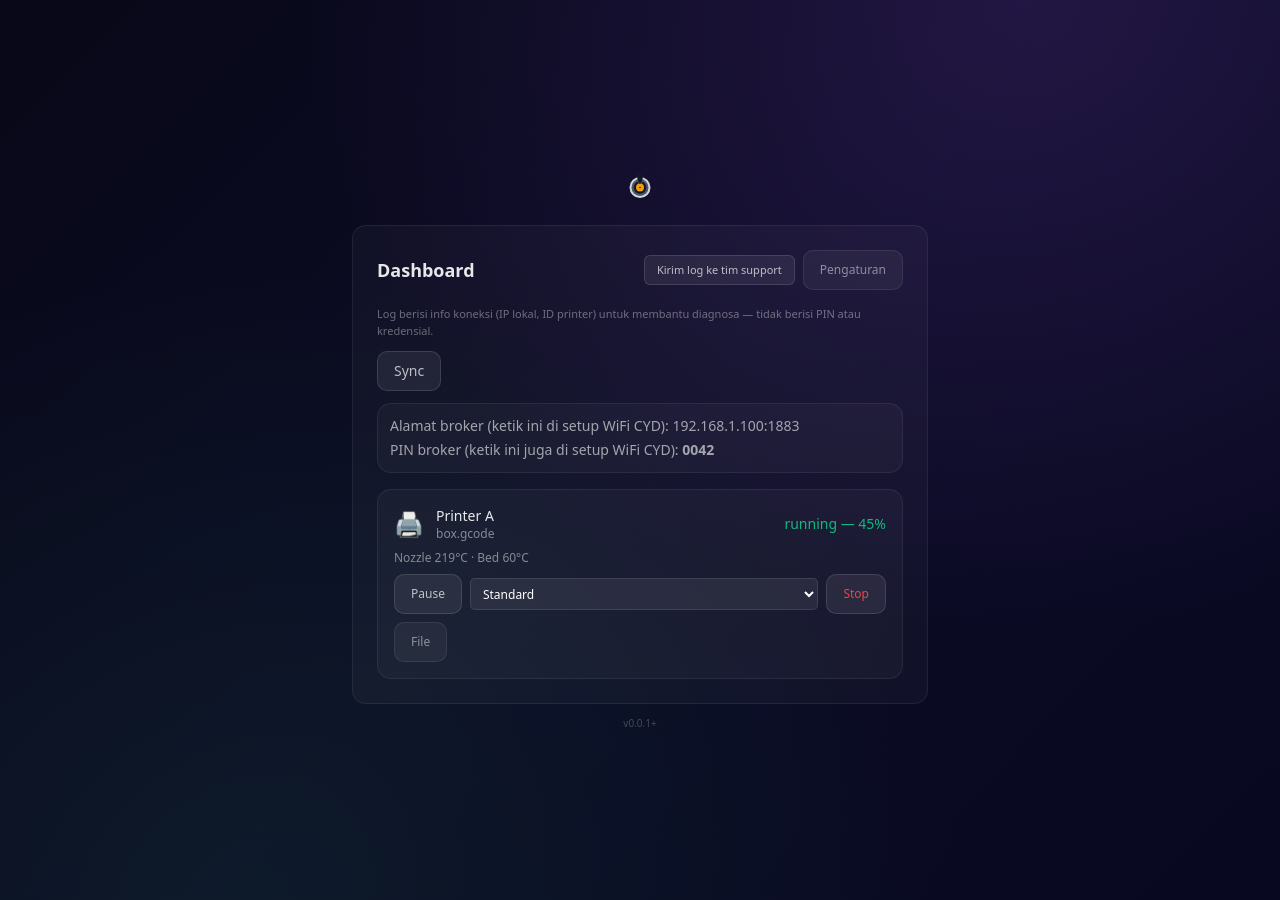
Test: DashboardScreen kirim log › sendLogs gagal reason lain (mis. upload_failed) -> pesan generik 'Gagal mengirim log'
Click the button "Kirim log ke tim support" at (719, 270), box [644, 255, 795, 285]
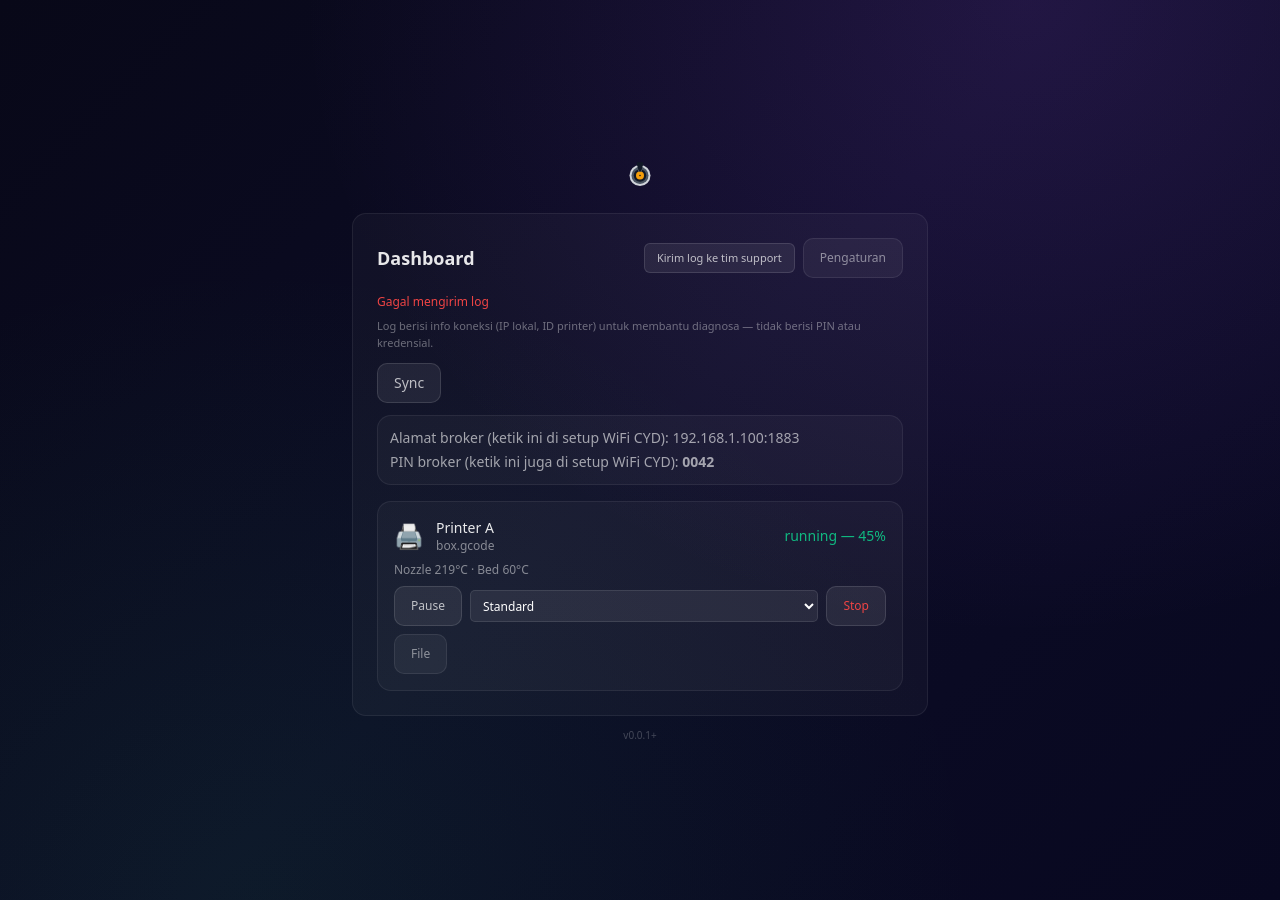
Check: the text "Gagal mengirim log" is shown, box [377, 293, 489, 310]
